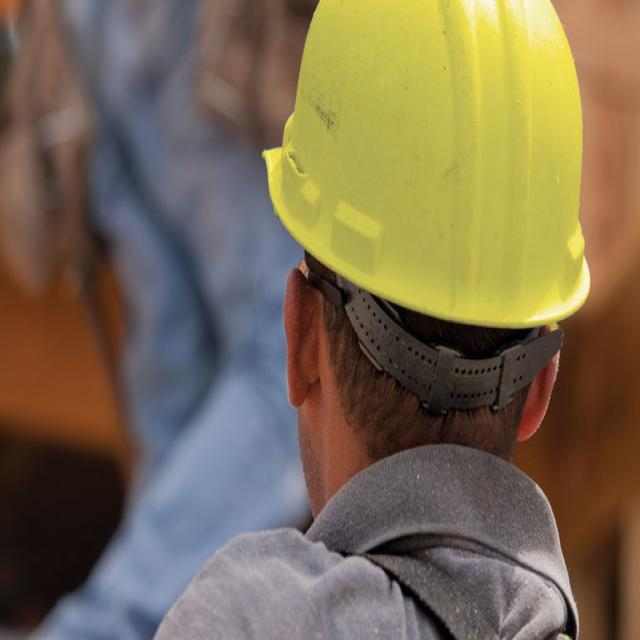helmet: (265, 0, 592, 317)
